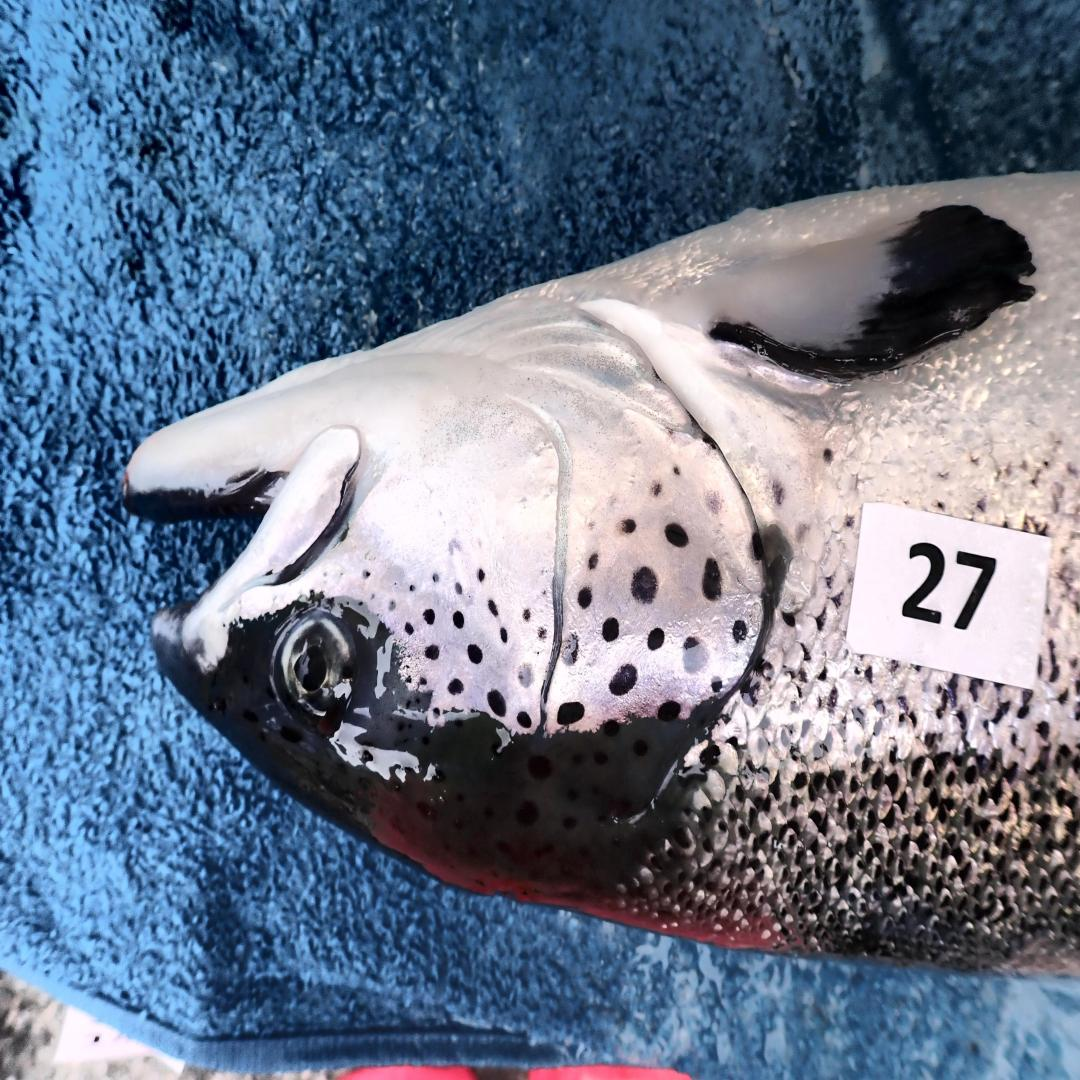spot: (681, 636, 709, 675), (631, 565, 658, 605), (610, 664, 637, 695), (702, 557, 721, 599), (702, 484, 724, 518), (557, 700, 584, 726), (664, 523, 688, 548), (561, 633, 578, 667), (487, 689, 506, 717), (657, 701, 681, 722), (601, 616, 620, 641), (517, 664, 534, 689), (648, 627, 664, 650), (752, 532, 764, 560), (732, 619, 747, 641), (468, 644, 483, 664), (578, 588, 593, 608), (447, 678, 464, 695), (620, 518, 637, 534), (424, 644, 439, 661), (517, 712, 532, 728), (711, 678, 724, 695), (650, 481, 662, 498), (487, 599, 498, 616), (424, 608, 435, 624), (454, 610, 464, 627), (589, 554, 599, 571), (500, 627, 508, 644), (523, 608, 532, 622), (405, 622, 413, 636), (477, 568, 485, 582), (454, 582, 462, 593), (673, 464, 681, 475), (538, 627, 546, 638), (433, 707, 440, 719), (419, 677, 427, 686), (363, 570, 370, 578), (433, 573, 439, 582), (390, 601, 396, 609), (409, 584, 415, 592), (405, 675, 411, 683), (371, 593, 375, 600), (405, 665, 409, 668)
